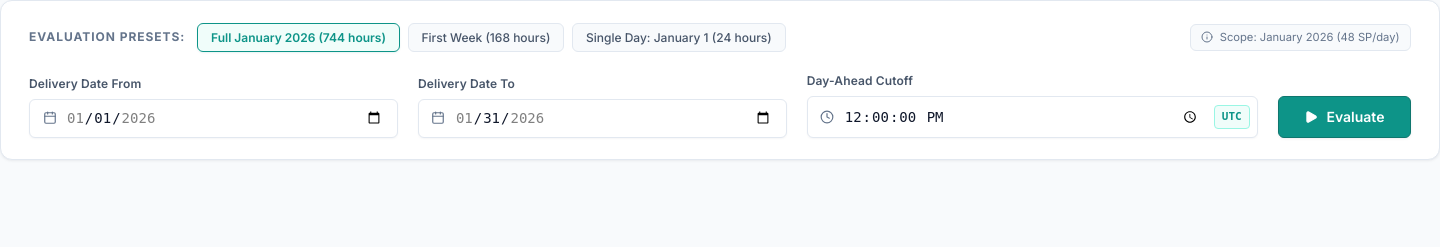
Controls Component › displays validation error when delivery date is outside January 2026
# Set dates in February 2026
Type "2026-02-01" into the date field labelled "Delivery Date From". click: {"x": 213, "y": 118}
box: [29,99,398,138]
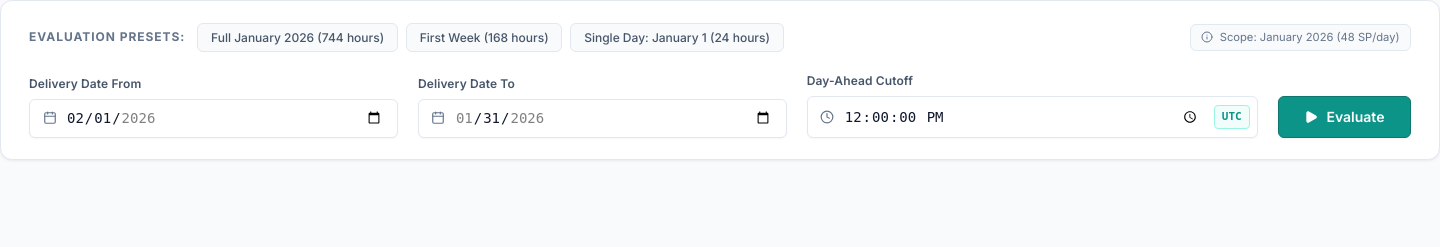
Type "2026-02-05" into the date field labelled "Delivery Date To". click: {"x": 602, "y": 118}
box: [418,99,787,138]
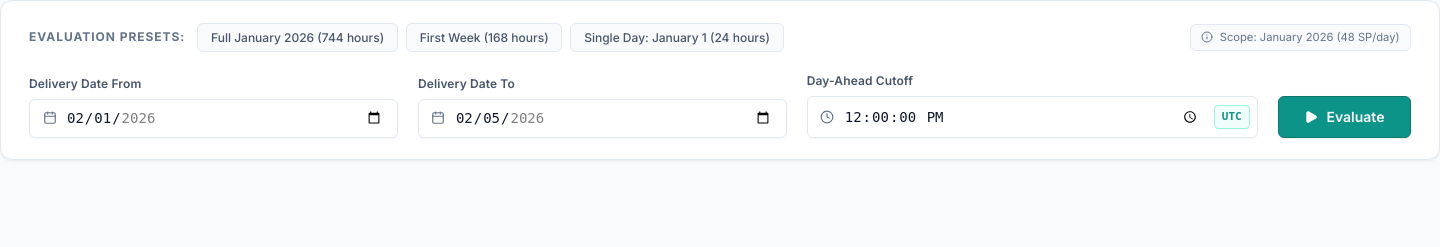
Click the button "Evaluate". click: {"x": 1344, "y": 117}
box: [1278,96,1411,138]
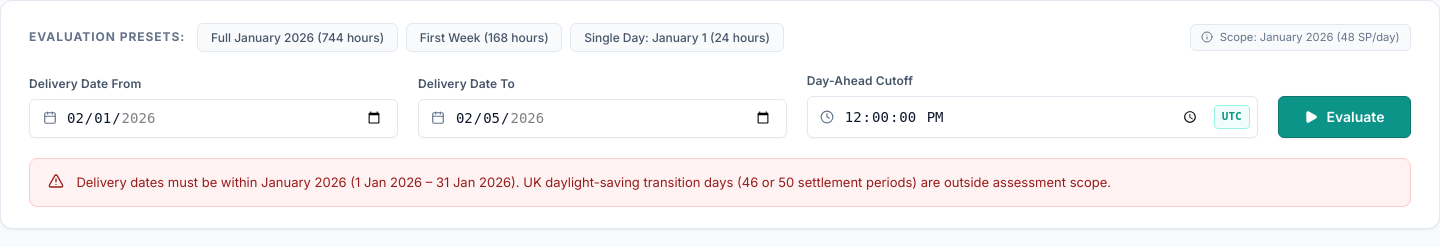
Result: the message shows "Delivery dates must be within January 2026" at [76,174,1111,190]
